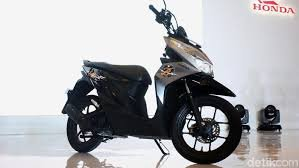motor: (66, 27, 248, 168)
